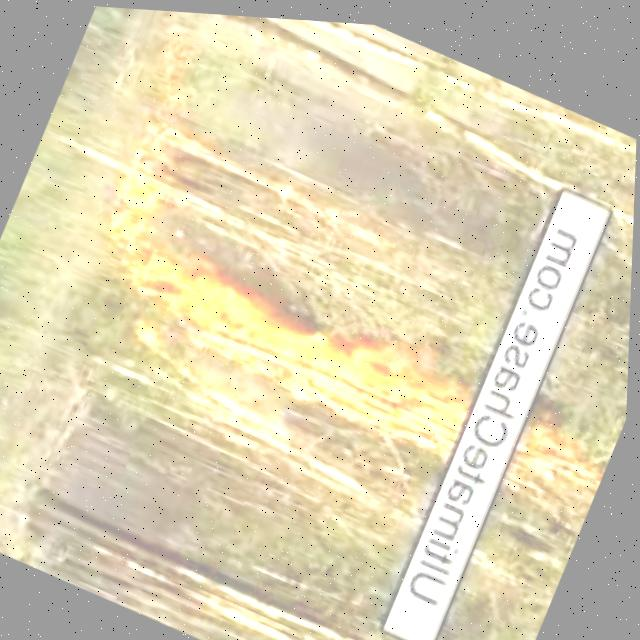Fire: (158, 243, 485, 458), (70, 152, 210, 308), (500, 407, 616, 514)
